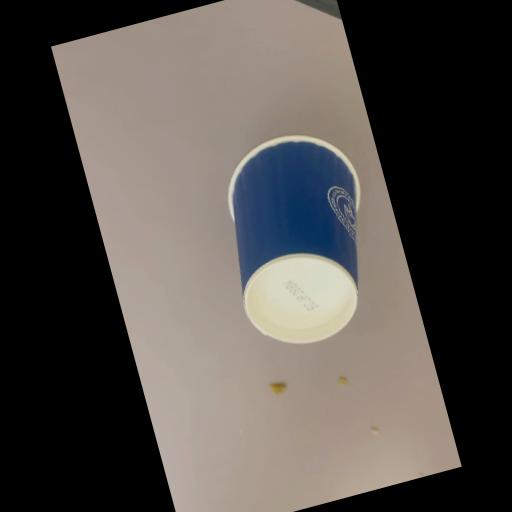lp_paper_cup: (200, 116, 398, 362)
